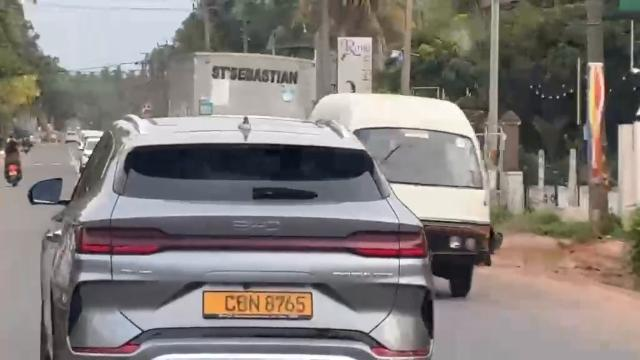no helmet: (193, 284, 326, 325)
